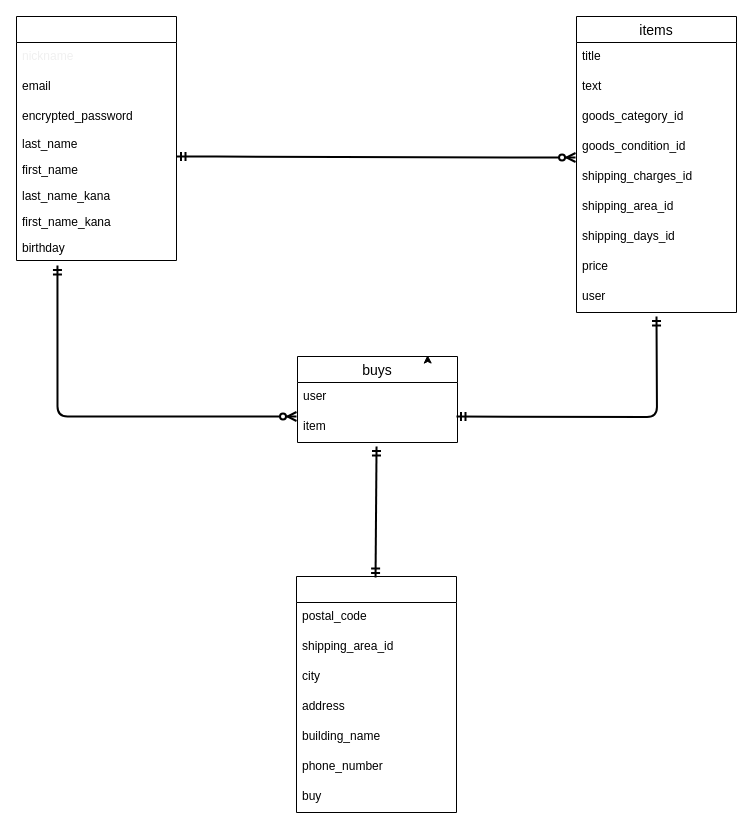
Image size: 753x829. Some labels were removed from this diagram. Here are the shapes that lost their labels. From the top down, the box of each, then its label:
(16, 16, 176, 260): users
(296, 576, 456, 812): shipping_address
